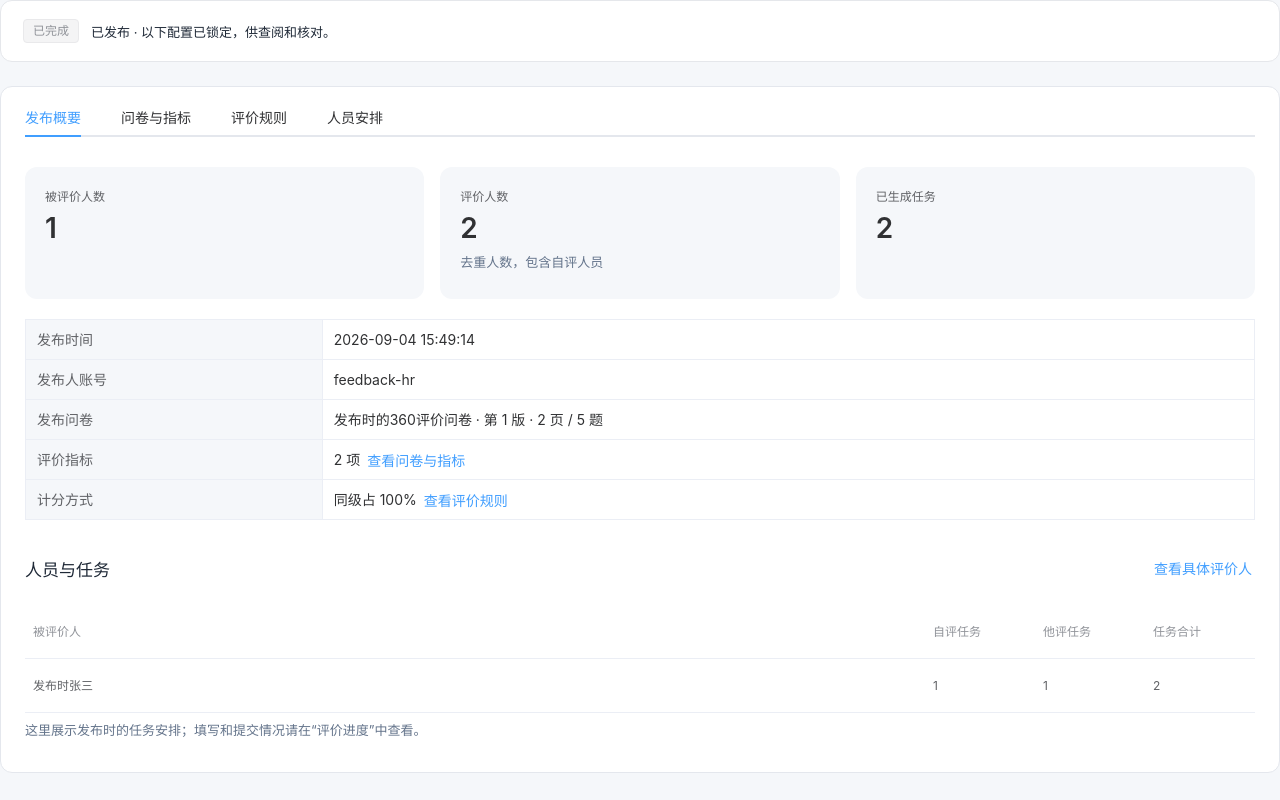
Test case: 已完成项目保持历史人员，筛选不查询候选或修改配置
The image size is (1280, 800).
Click the tab "人员安排": click(355, 118) [327,109,383,126]
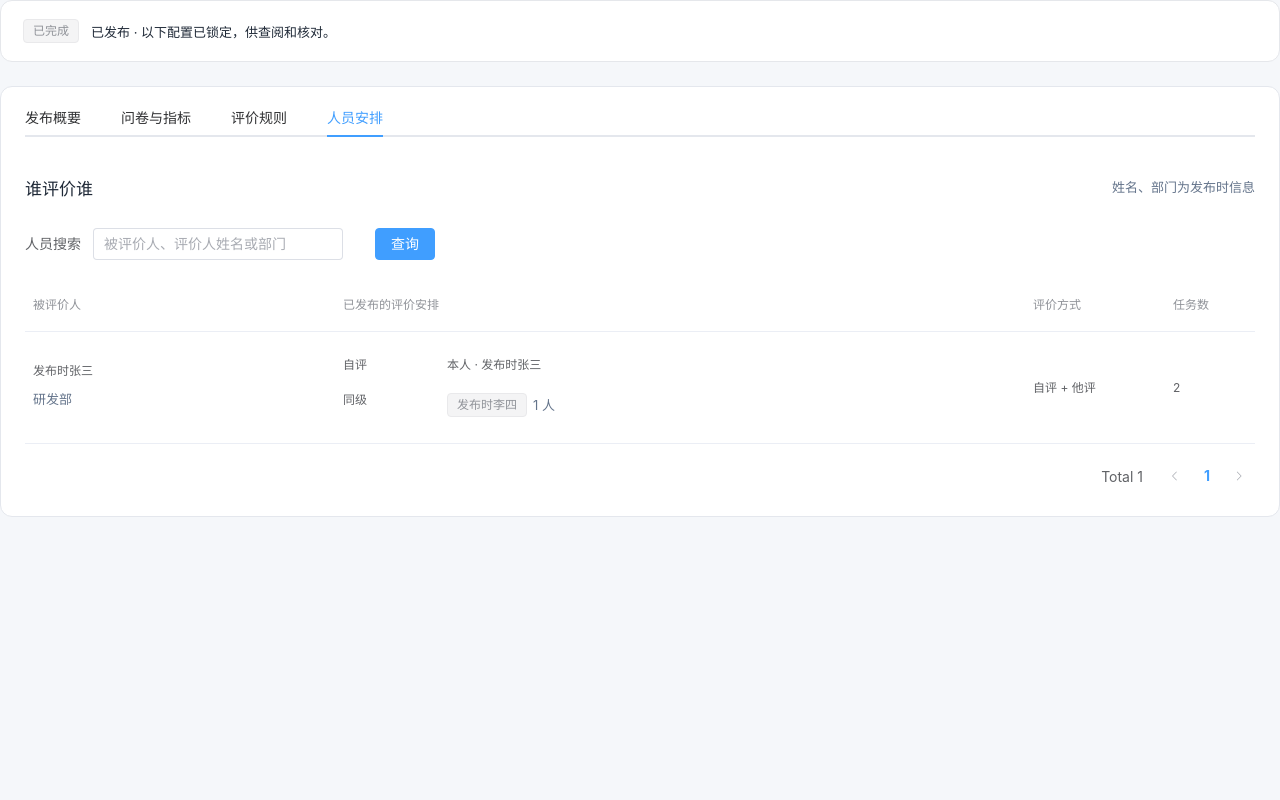
Expected: the text "发布时李四" is shown, [457,399,517,411]
In the field labelled "人员搜索": (218, 244) [104,229,332,259], type "原部门"
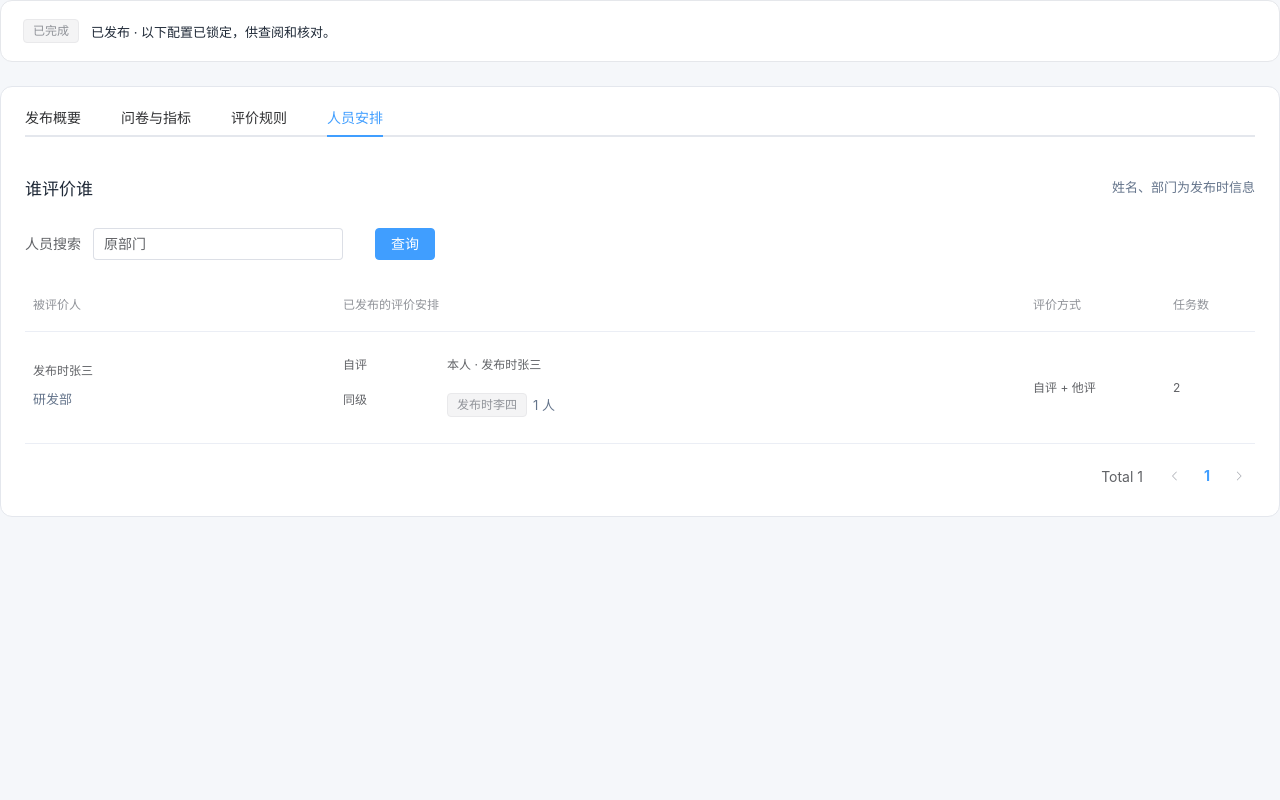
Press Enter in the field labelled "人员搜索", box [104,229,332,259]
Expected: the text "发布时李四" is shown, [457,399,517,411]
Replace the text in the field labelled "人员搜索" with "不存在": (218, 244) [104,229,332,259]
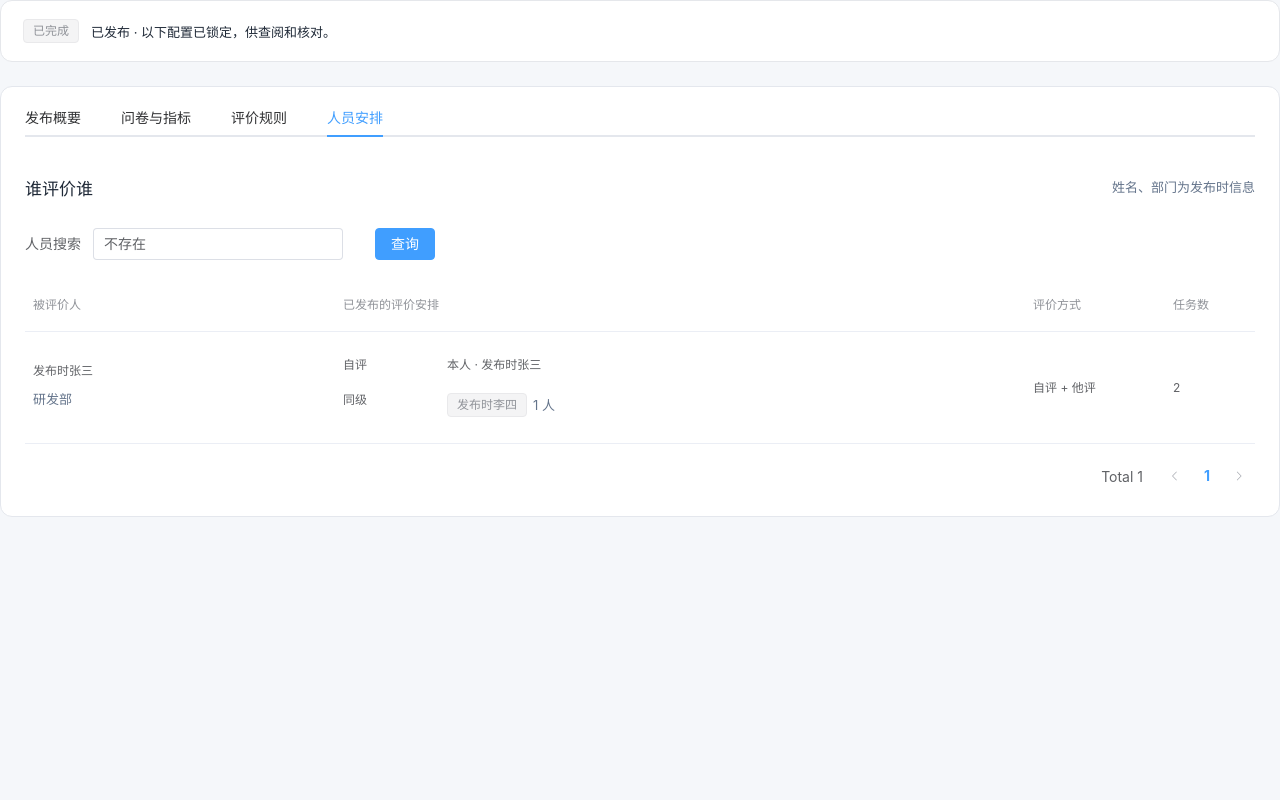
Press Enter in the field labelled "人员搜索", box [104,229,332,259]
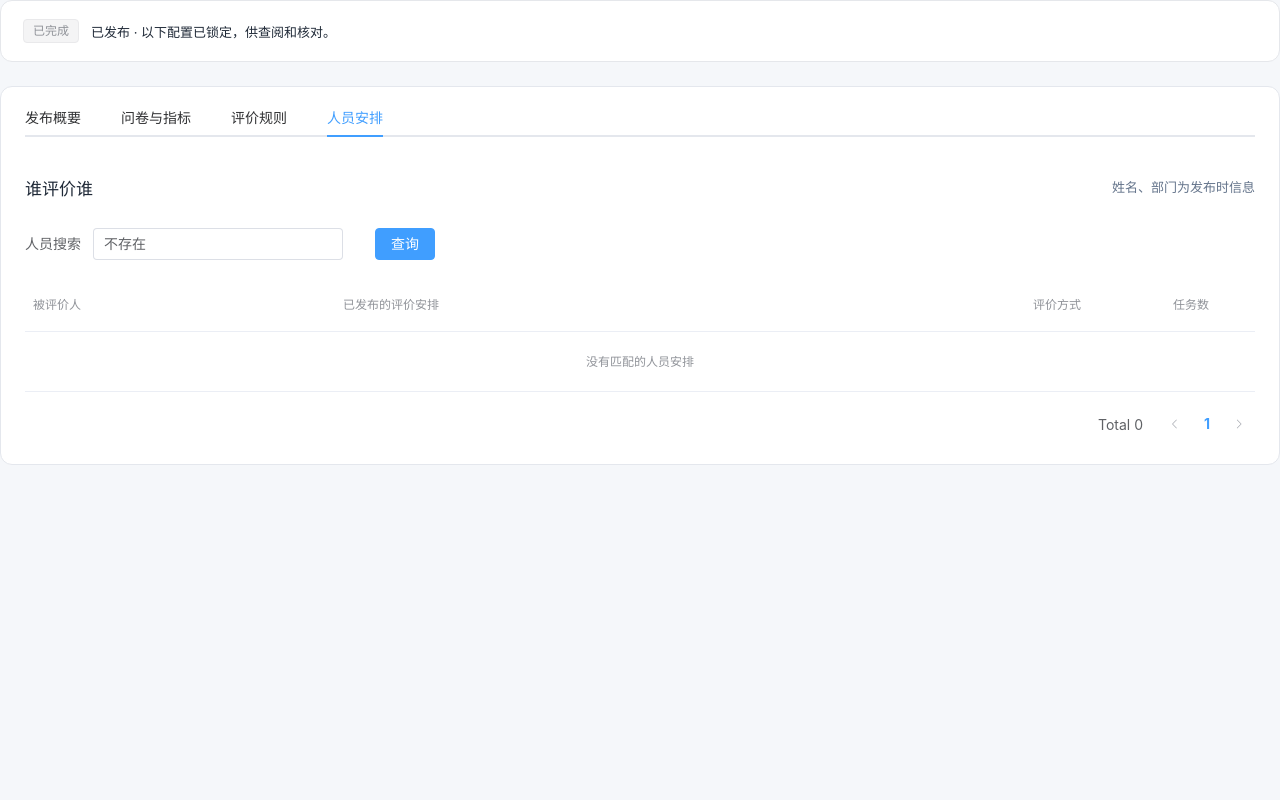
Expected: the text "没有匹配的人员安排" is shown, [586,354,694,369]
